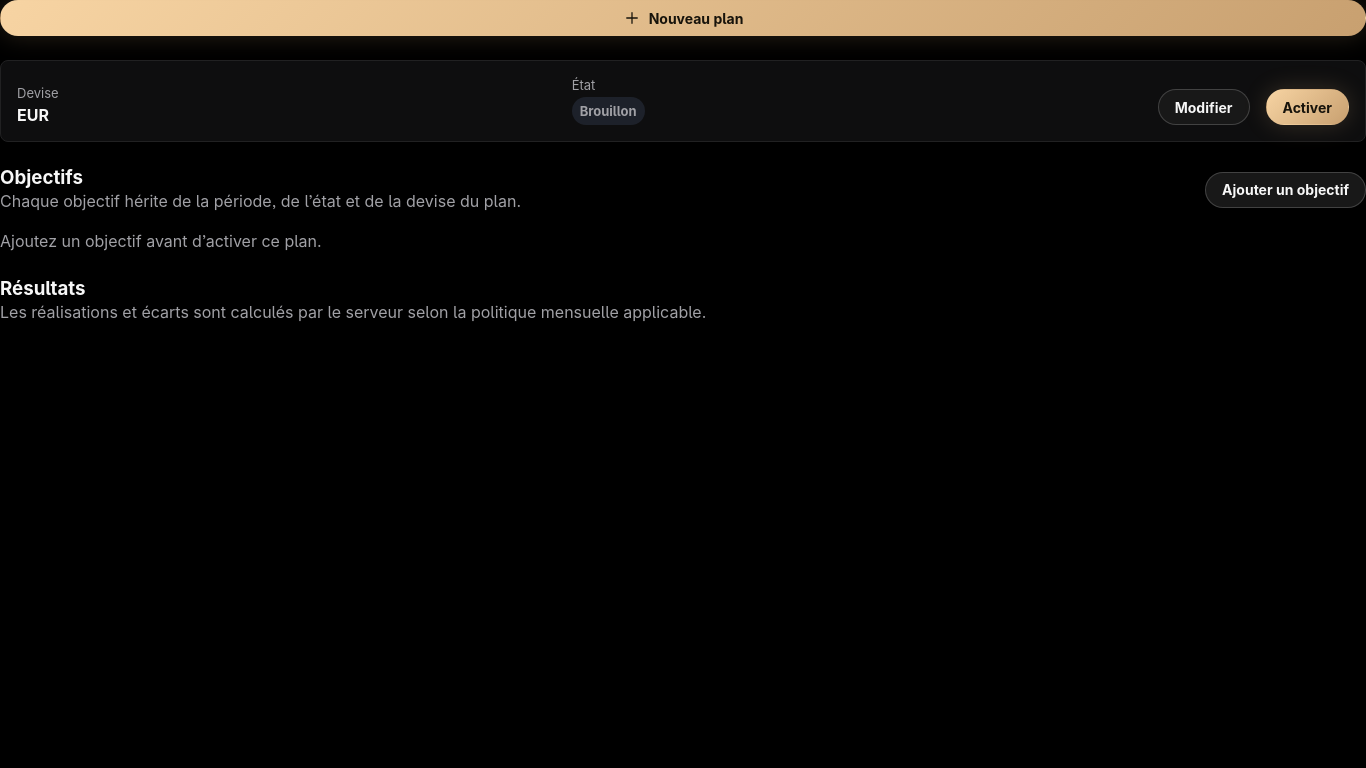
Test case: BudgetPage › opens the category target perimeter picker as a labelled combobox
Click the button "Ajouter un objectif".
click(1286, 190)  # box [1205,172,1365,208]
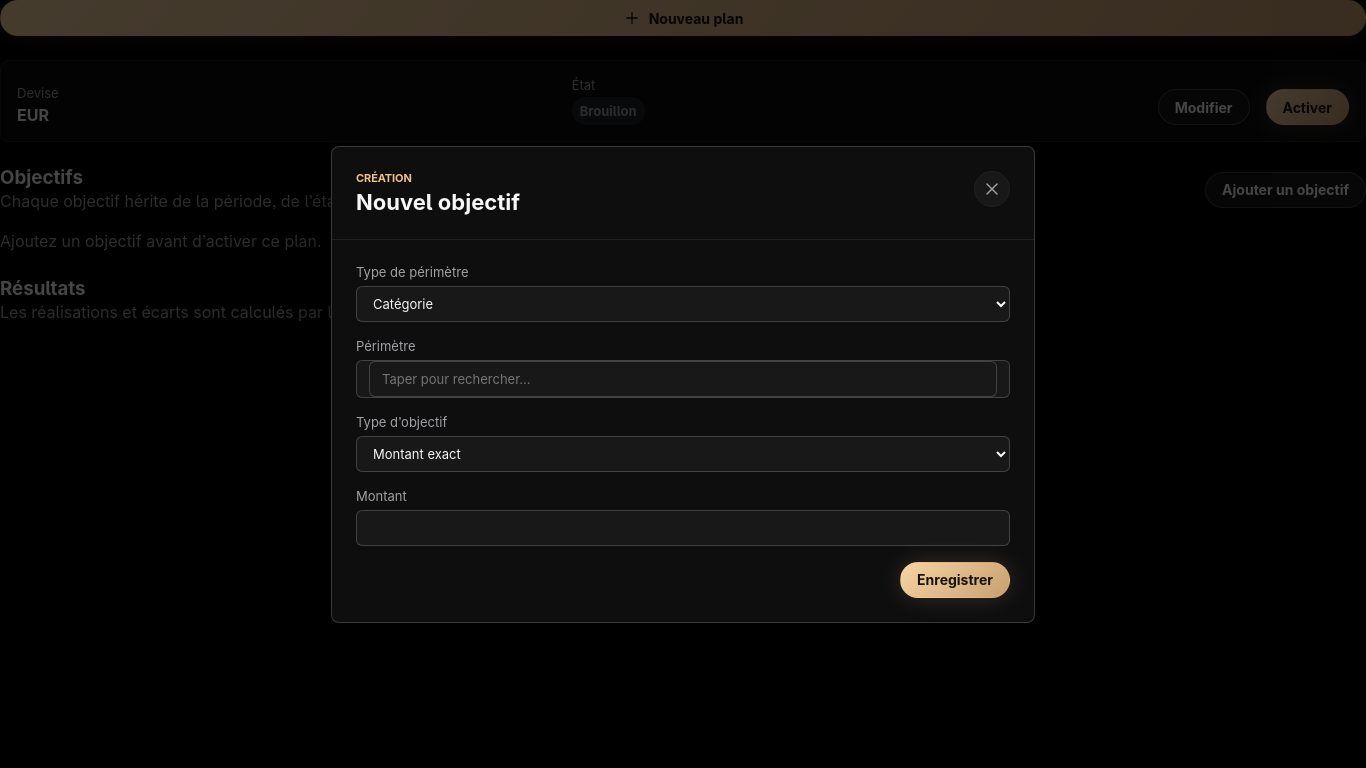
Focus the dropdown labelled "Périmètre" at (683, 378), box [369,360,997,396]
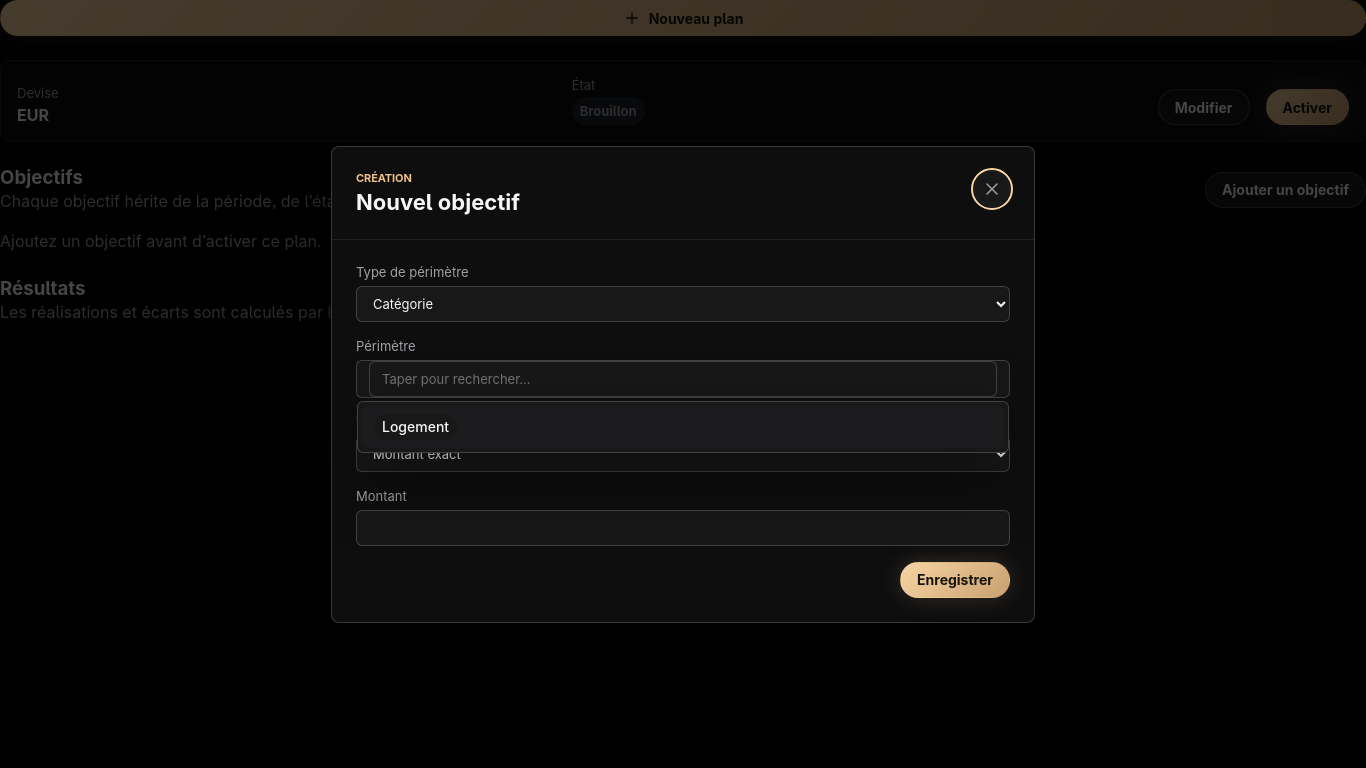
Now the list named "Périmètre" is shown, box [357,400,1009,452]
